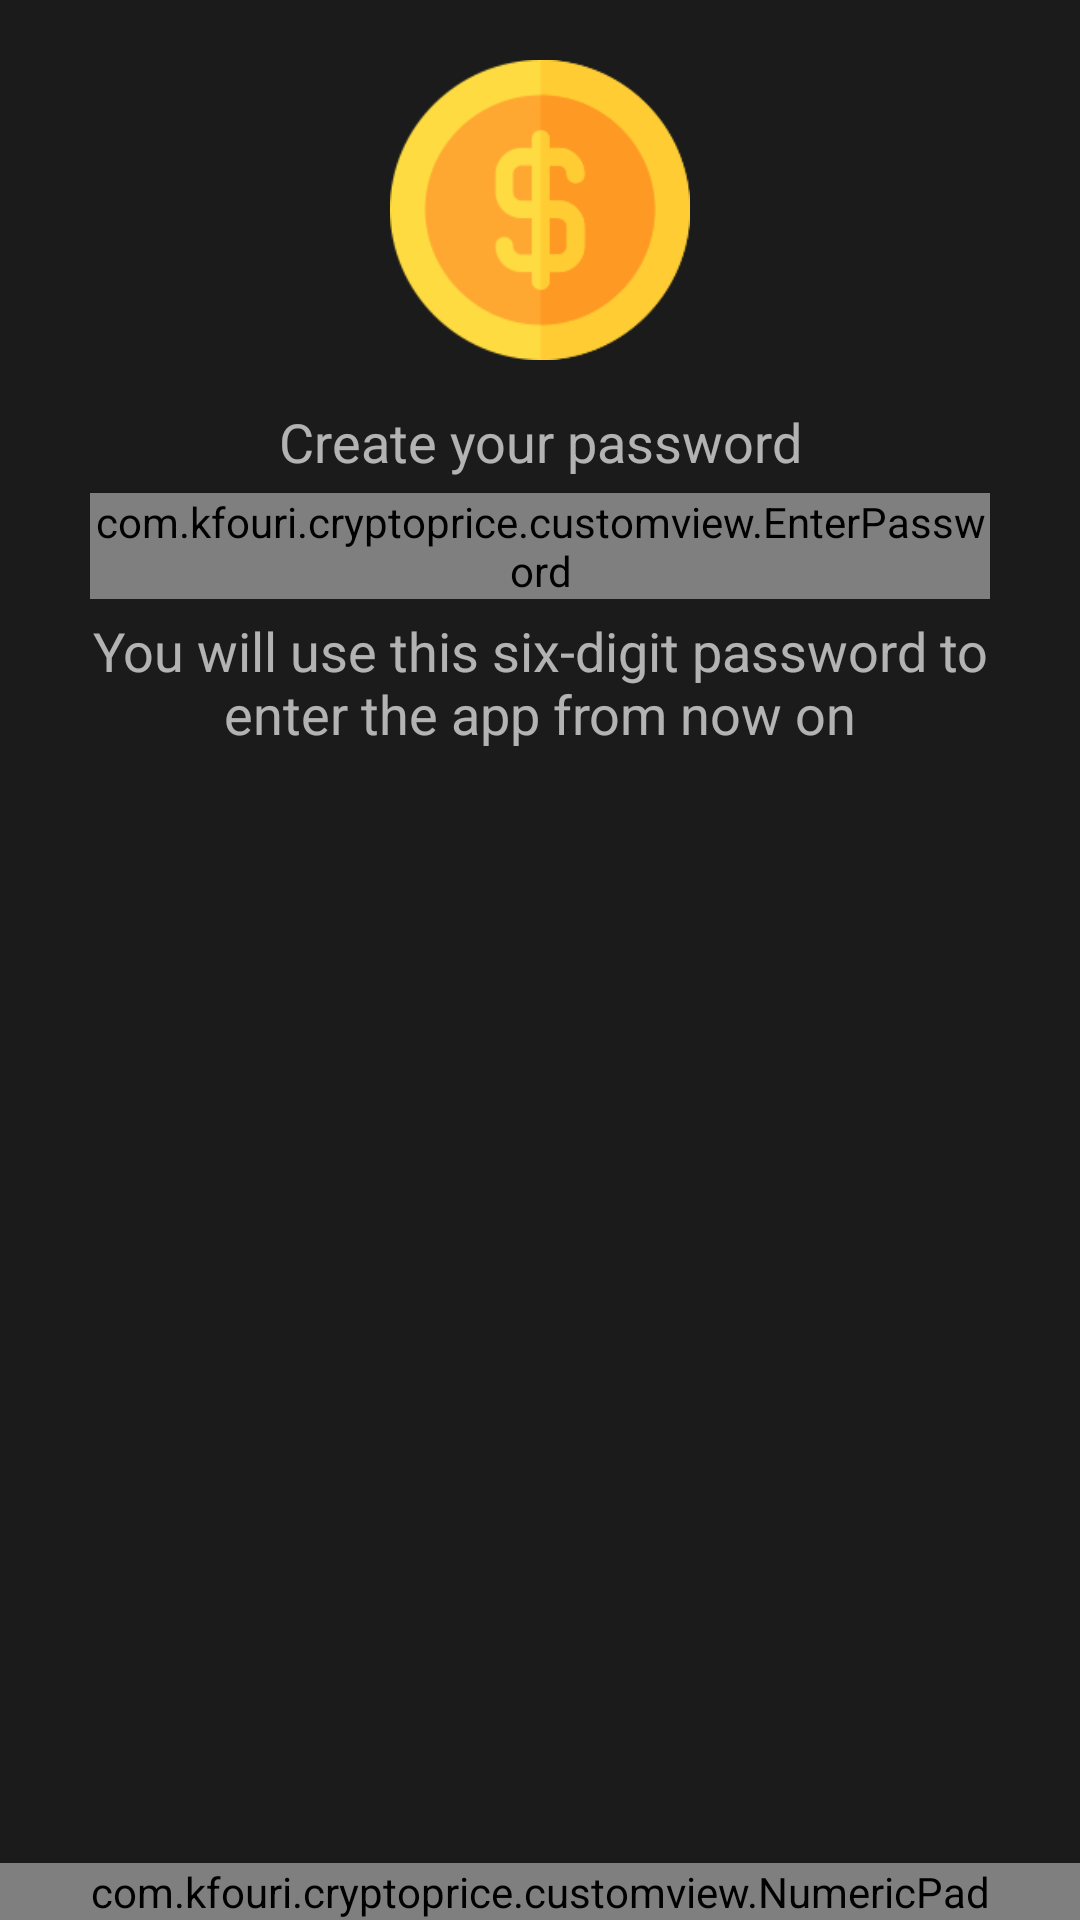

Icon bounding boxes for this 1080px x 1920px phone screenshot, format (x1, y1, x2, y2):
coin: (390, 60, 690, 360)
